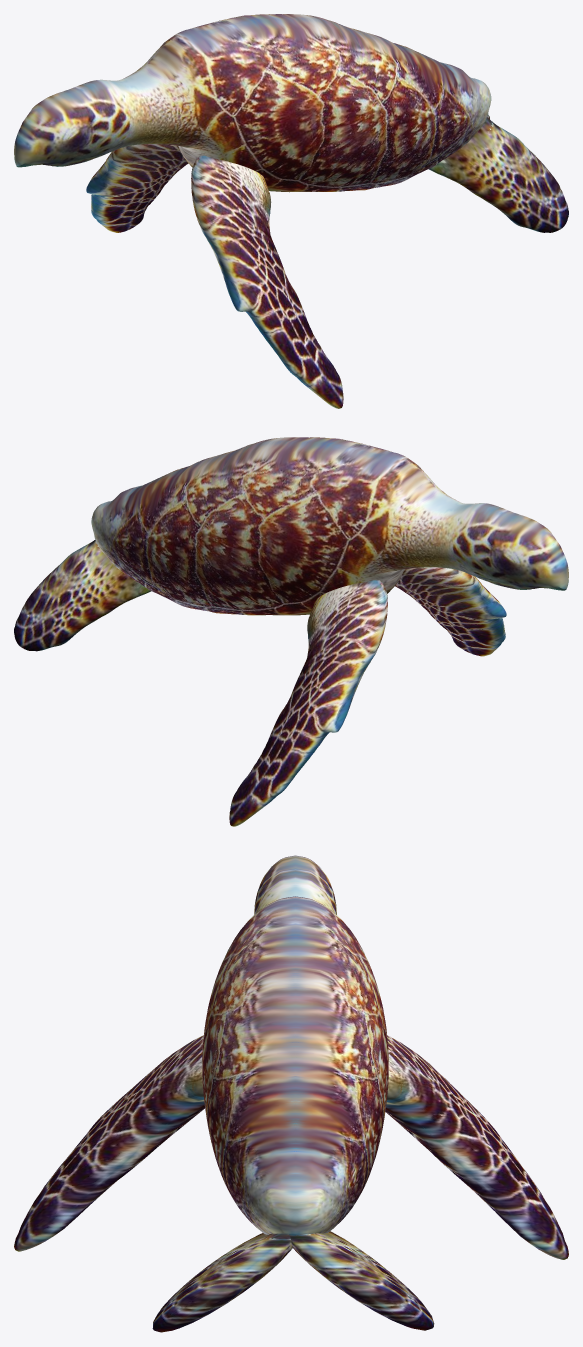
File: hawksbill-turtle.glb
3 views of the same model, one above another, from view 1: azimuth 30°, elevation 25°; view 2: azimuth 150°, elevation 25°; view 3: azimuth 270°, elevation 25° (orthographic). The views are drawn at different scales.
Parts seen in each view (by area): view 1: mm_frame (56); view 2: mm_frame (56); view 3: mm_frame (56).
Part boxes in pixels (x1,y1,x2,y2): mm_frame (56): (14,14,568,408); mm_frame (56): (14,437,568,826); mm_frame (56): (14,855,568,1332).
Size of the model in its own units: 8.19 by 4.57 by 6.8.
Materials: 1 (1 with a texture image).
